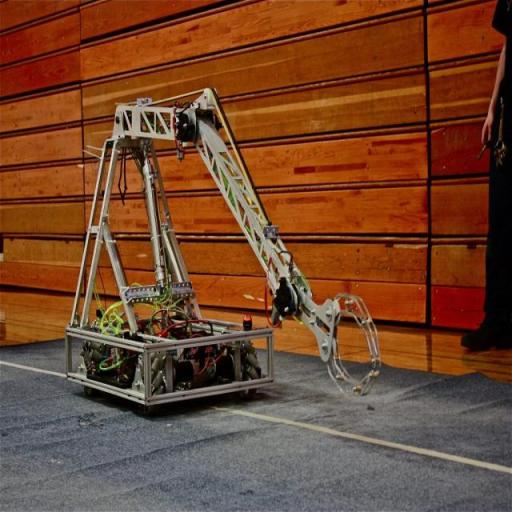robot: (32, 67, 404, 456)
